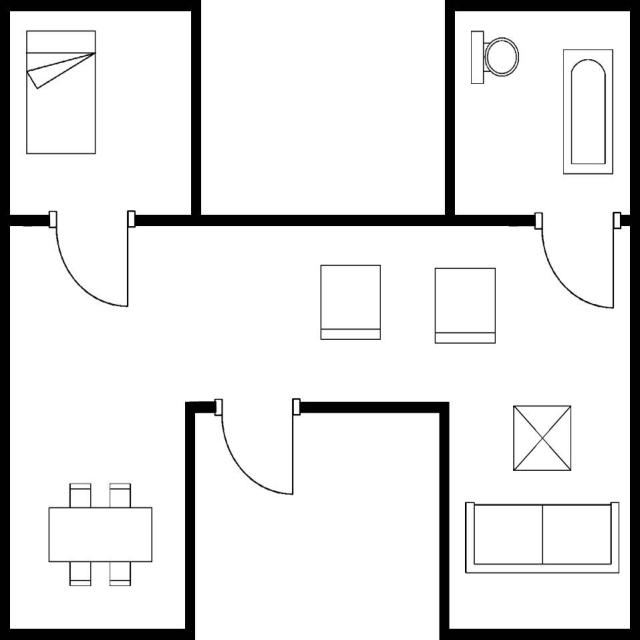bed: (20, 26, 100, 161)
coffee_table: (509, 400, 575, 476)
dining_table: (42, 476, 158, 591)
large_sink: (466, 25, 522, 90)
large_sofa: (460, 497, 622, 579)
small_sofa: (431, 261, 501, 350), (315, 260, 386, 346)
tub: (558, 44, 618, 180)
